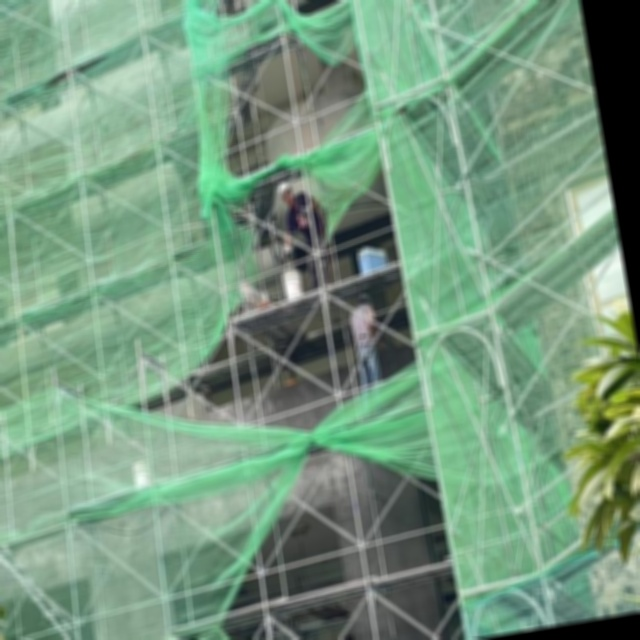Con_Casco: (277, 181, 293, 198)
